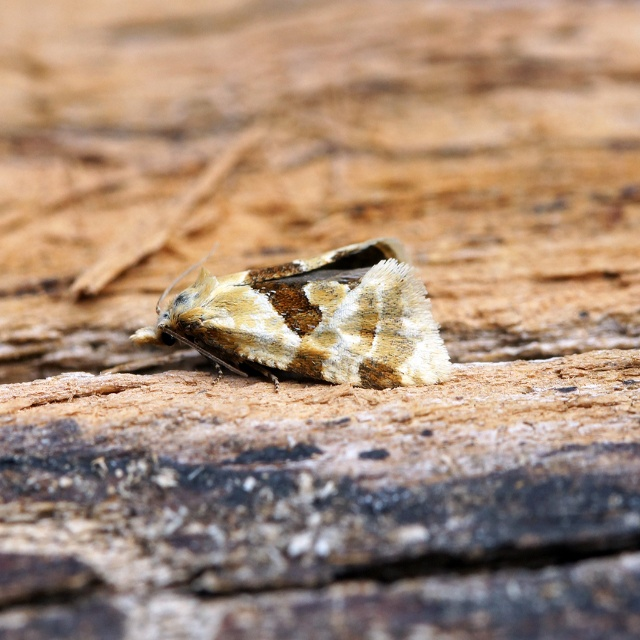Moths and butterflies: (151, 234, 463, 398)
